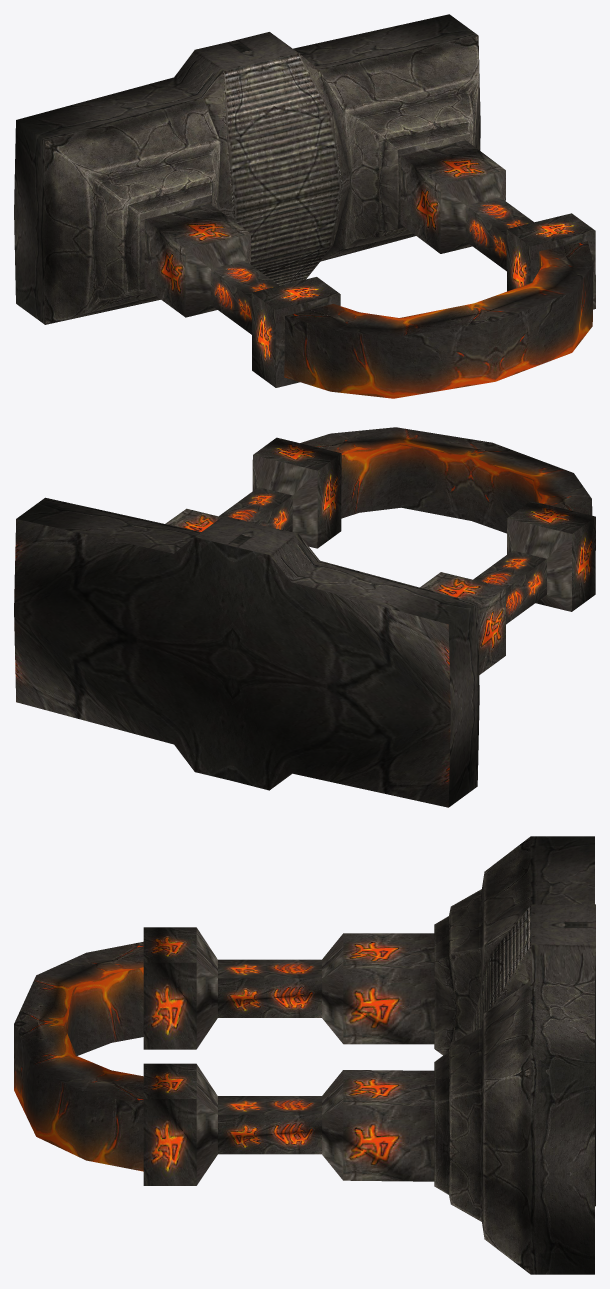
The model's file is Altar-gate-07.obj.
3 views of the same model, one above another, from view 1: azimuth 30°, elevation 25°; view 2: azimuth 150°, elevation 25°; view 3: azimuth 270°, elevation 25° (orthographic). The views are drawn at different scales.
Parts seen in each view (by area): view 1: (null); view 2: (null); view 3: (null).
Boxes of the visible parts, <box> form: (null): <box>14,14,595,398</box>; (null): <box>14,427,595,807</box>; (null): <box>14,836,595,1274</box>.
Size of the model in its own units: 5.39 by 2.78 by 5.6.
